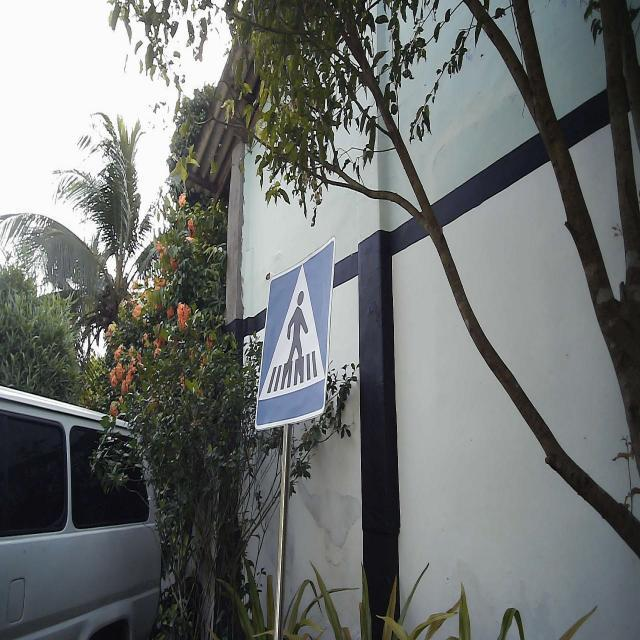crosswalk_sign: (252, 234, 338, 436)
